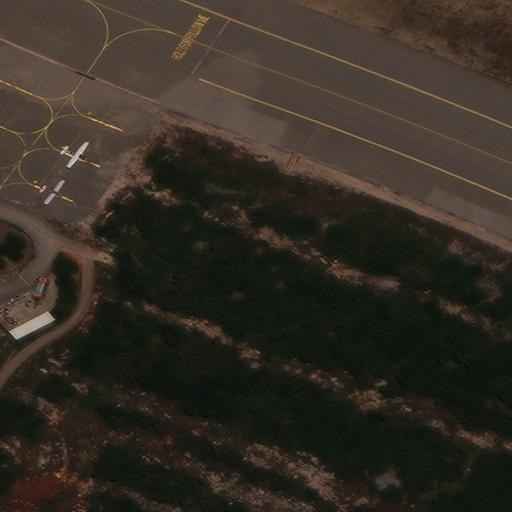Small Civil Transport: (59, 143, 89, 168), (40, 181, 65, 205)
